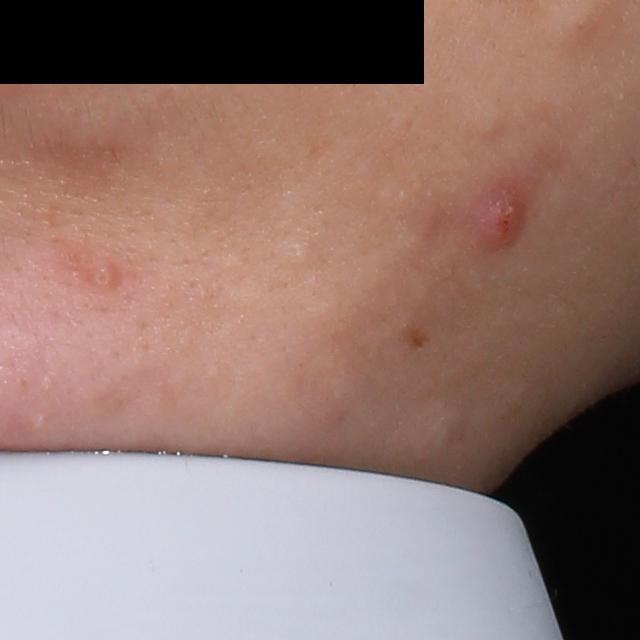comedo: (555, 2, 613, 45)
nevus: (399, 324, 433, 351)
papule: (483, 187, 534, 259)
pustule: (88, 263, 115, 289)
